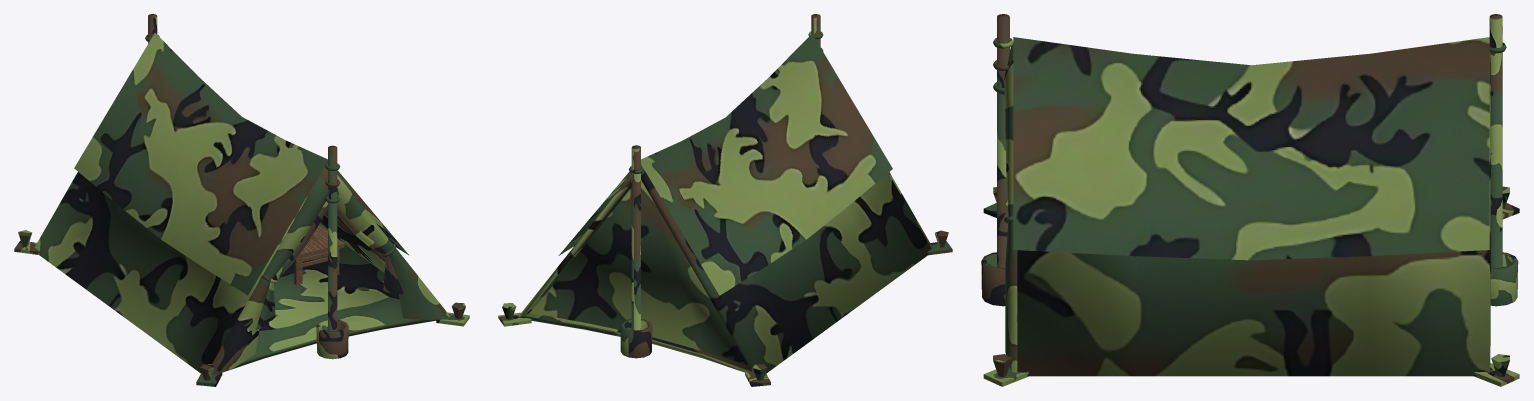
3 renders of one model, left to right at view 1: azimuth 30°, elevation 25°; view 2: azimuth 150°, elevation 25°; view 3: azimuth 270°, elevation 25°, orthographic. The views are drawn at different scales.
Parts seen in each view (by area): view 1: Camp, desk; view 2: Camp; view 3: Camp.
Boxes of the visible parts, left/top/right/bottom form: Camp: left=14, top=14, right=469, bottom=386; desk: left=294, top=225, right=344, bottom=284; Camp: left=498, top=14, right=952, bottom=386; Camp: left=981, top=14, right=1519, bottom=386.
Bounding box in the file's own units: 2.24 × 1.6 × 2.79.
2 materials, 2 textured.
